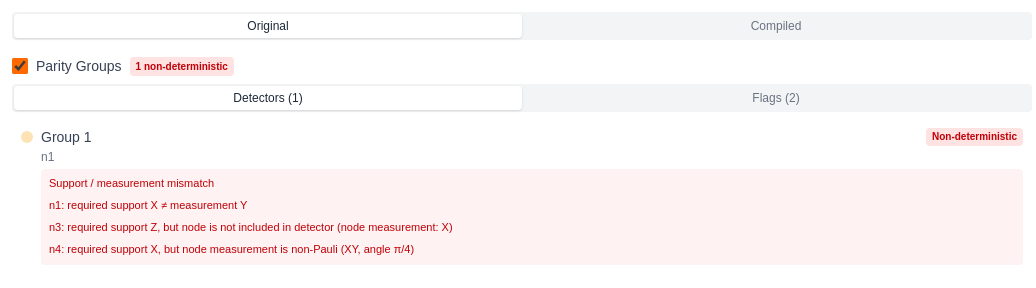
it: FTQCList › lists regular detectors by default and flags separately
This screenshot has width=1036, height=288.
expect the button "Group 0" is not shown: met
expect the button "Group 2" is not shown: met
Click the button "Flags (2)": (776, 98) [522,86,1030,110]
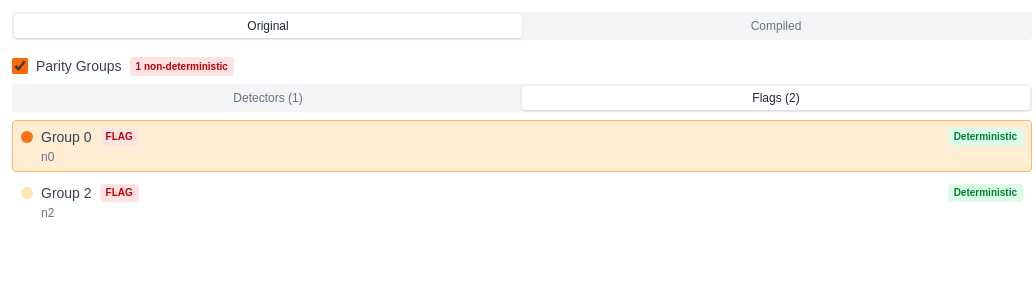
expect the button "Group 0 Flag Deterministic n0" is shown: met, box [12,120,1032,172]
expect the button "Group 2 Flag Deterministic n2" is shown: met, box [12,176,1032,228]
expect the button "Group 1" is gone: met
